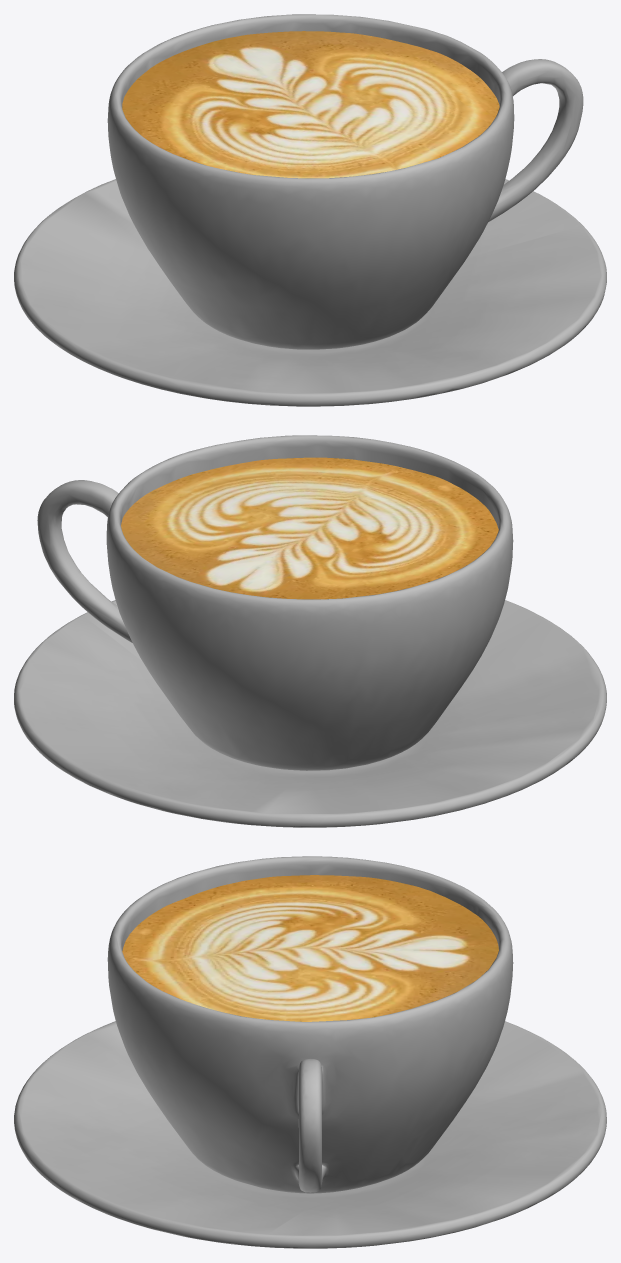
File: coffee_mug.glb
3 views of the same model, one above another, from view 1: azimuth 30°, elevation 25°; view 2: azimuth 150°, elevation 25°; view 3: azimuth 270°, elevation 25° (orthographic).
Parts seen in each view (by area): view 1: Coffee_Cup_Coffee_Cup_MAT_0, Cup_Plate_Coffee_Plate_MAT_0, Coffee_Coffee_Rosetta_Latte_MAT_0; view 2: Coffee_Cup_Coffee_Cup_MAT_0, Cup_Plate_Coffee_Plate_MAT_0, Coffee_Coffee_Rosetta_Latte_MAT_0; view 3: Coffee_Cup_Coffee_Cup_MAT_0, Cup_Plate_Coffee_Plate_MAT_0, Coffee_Coffee_Rosetta_Latte_MAT_0.
Part boxes in pixels (x1=…): Coffee_Cup_Coffee_Cup_MAT_0: x1=107, y1=14, x2=583, y2=349; Cup_Plate_Coffee_Plate_MAT_0: x1=14, y1=179, x2=606, y2=406; Coffee_Coffee_Rosetta_Latte_MAT_0: x1=122, y1=31, x2=499, y2=178; Coffee_Cup_Coffee_Cup_MAT_0: x1=37, y1=435, x2=513, y2=770; Cup_Plate_Coffee_Plate_MAT_0: x1=14, y1=600, x2=606, y2=827; Coffee_Coffee_Rosetta_Latte_MAT_0: x1=121, y1=457, x2=498, y2=599; Coffee_Cup_Coffee_Cup_MAT_0: x1=107, y1=856, x2=513, y2=1193; Cup_Plate_Coffee_Plate_MAT_0: x1=14, y1=1021, x2=606, y2=1248; Coffee_Coffee_Rosetta_Latte_MAT_0: x1=122, y1=875, x2=498, y2=1021.
Size of the model in its own units: 0.2306 by 0.0924 by 0.2248.
Materials: 3 (3 with a texture image).
